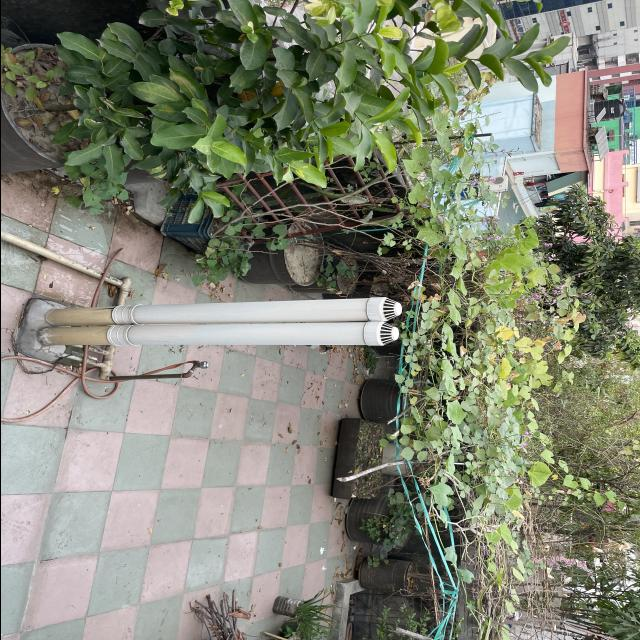Breeding Place: (0, 41, 121, 184), (236, 223, 326, 287), (328, 417, 386, 501), (265, 598, 333, 620)
